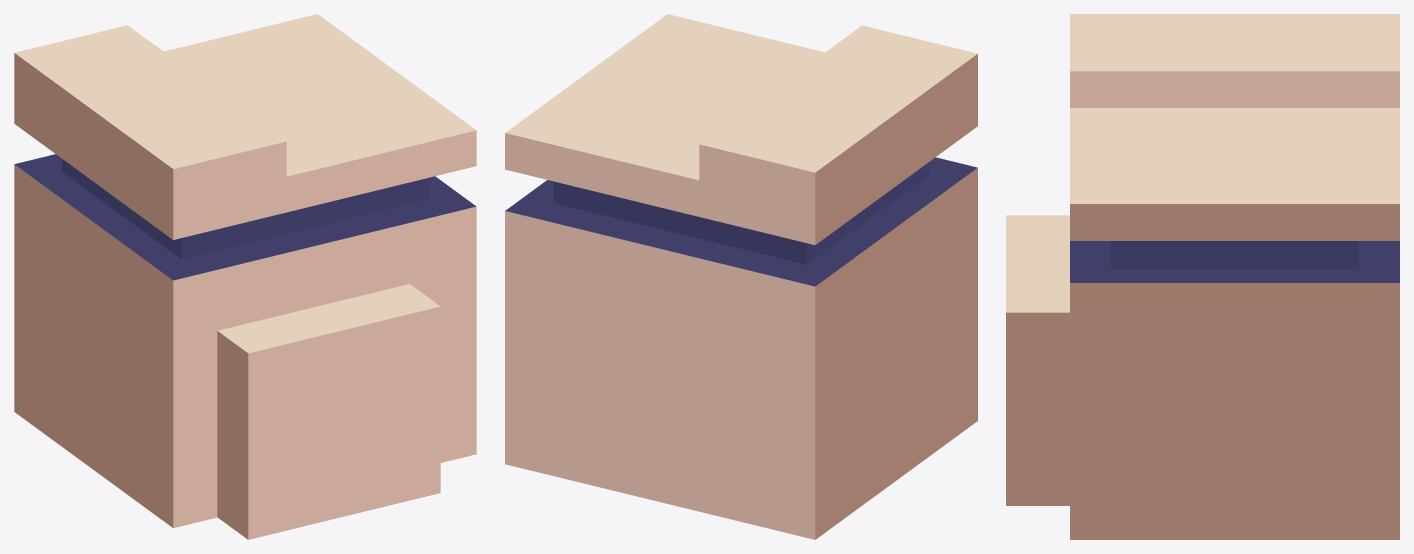
File: office-copier.glb
3 views of the same model, side by side, from view 1: azimuth 30°, elevation 25°; view 2: azimuth 150°, elevation 25°; view 3: azimuth 270°, elevation 25° (orthographic). The views are drawn at different scales.
Visible parts, largest first — view 1: COPIER; view 2: COPIER; view 3: COPIER.
Boxes of the visible parts, <box> form: COPIER: <box>14,14,476,539</box>; COPIER: <box>505,14,977,539</box>; COPIER: <box>1006,14,1399,539</box>.
Size of the model in its own units: 1.13 by 1.28 by 1.23.
1 material, 1 textured.
